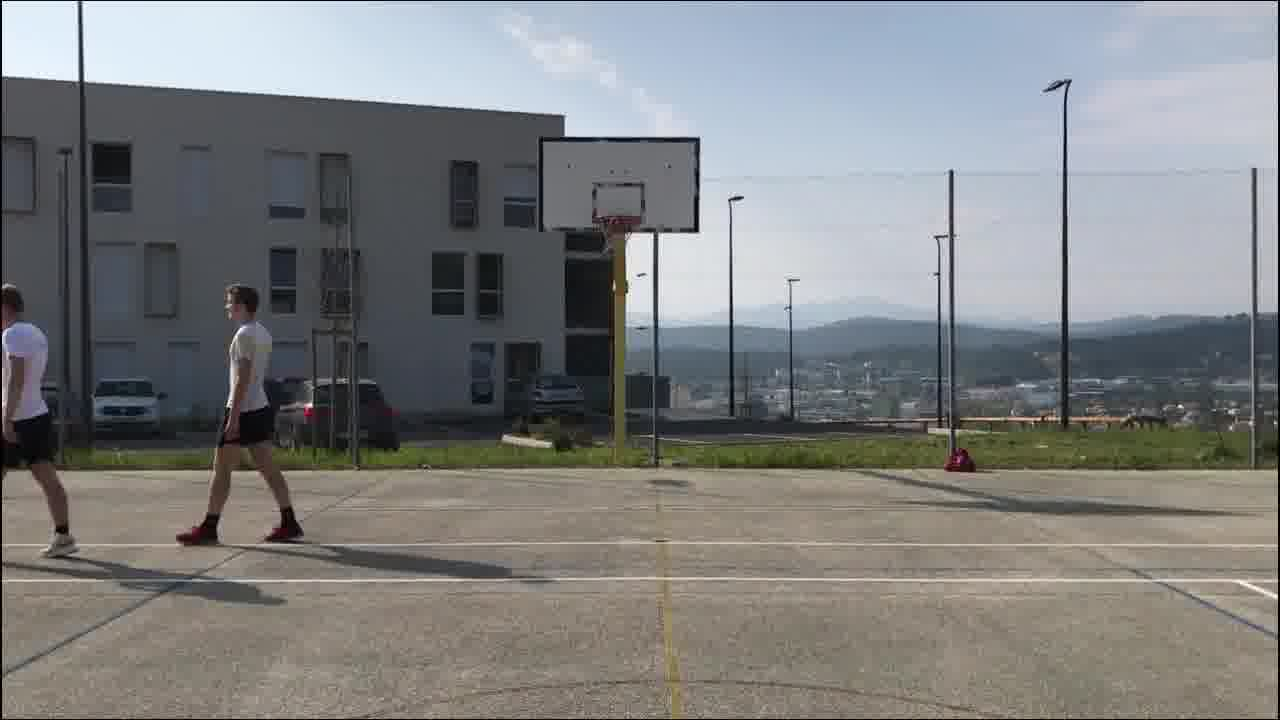jugador: (161, 272, 316, 557)
